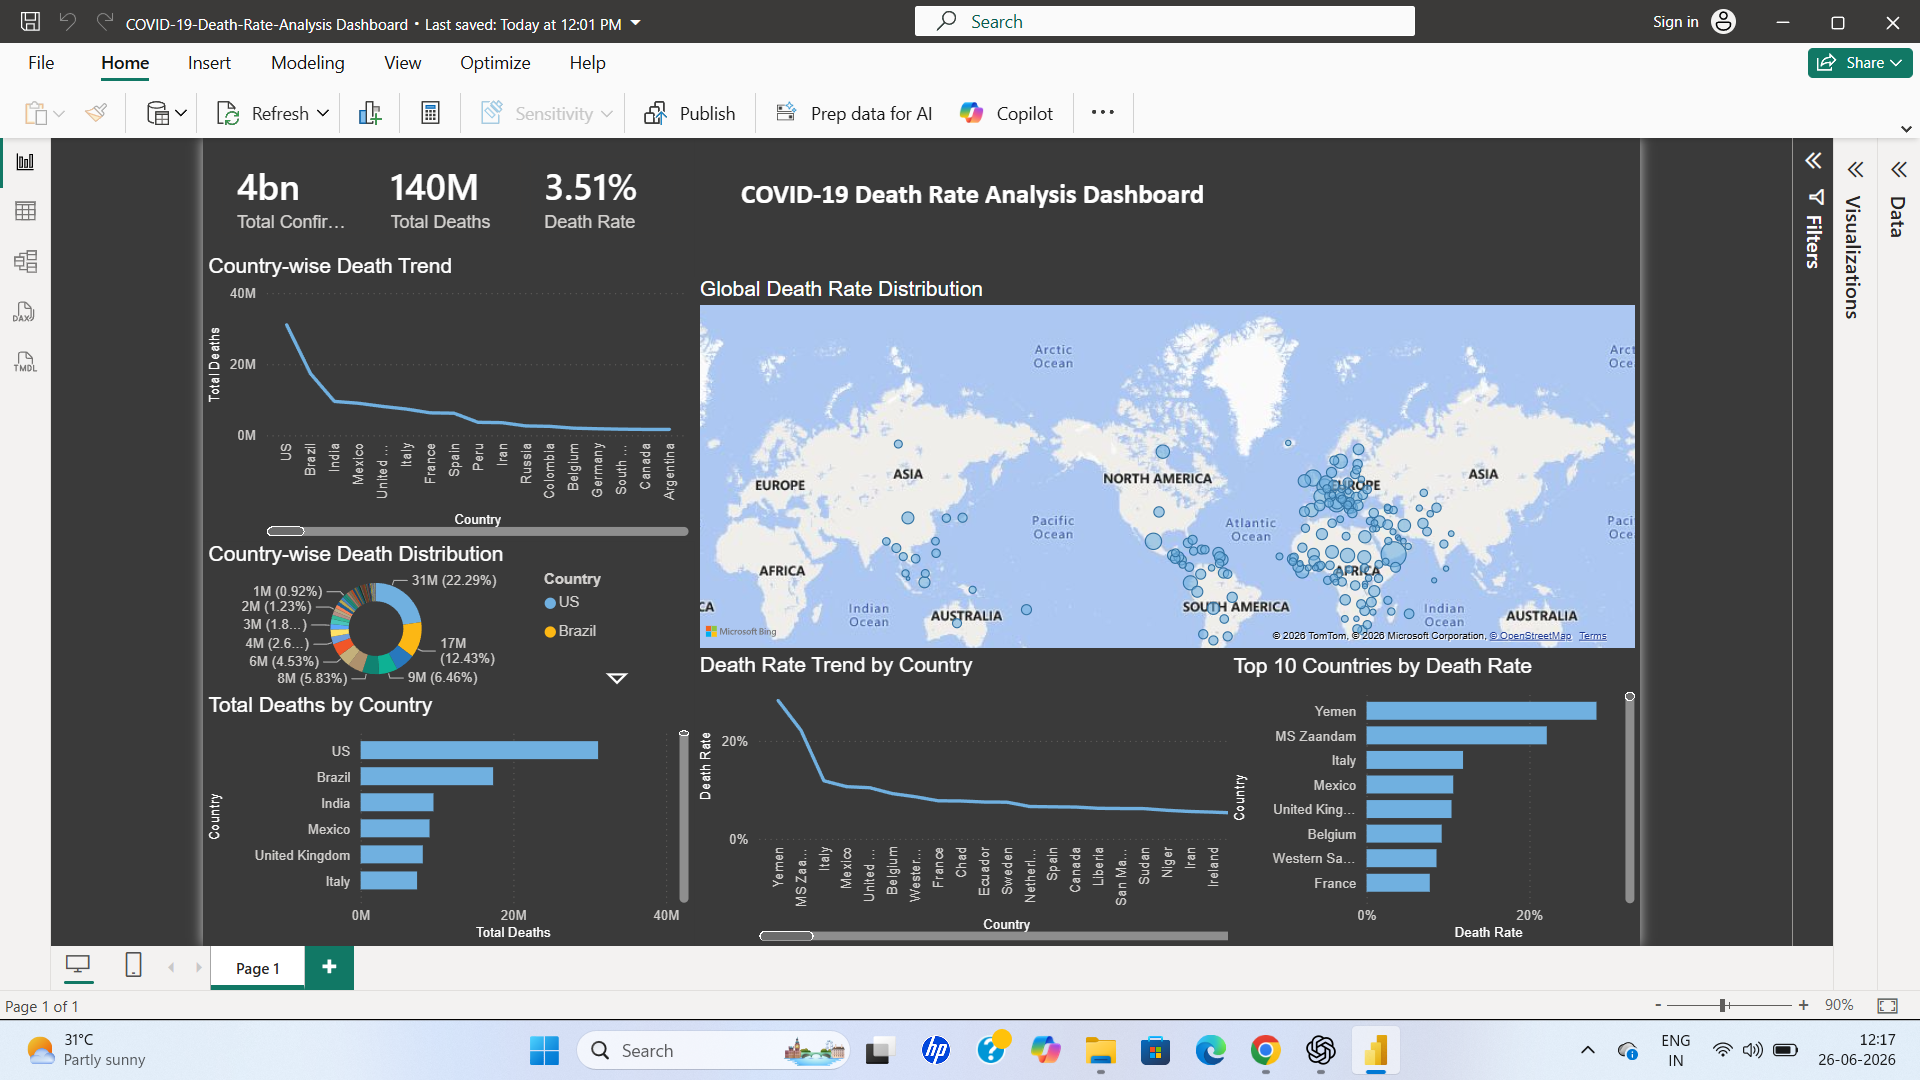

This screenshot's page, from the dashboard's own definition file:
{"tool":"powerbi","page":{"name":"Page 1","canvas":[1280,720],"ordinal":0},"visuals":[{"type":"cardVisual","fields":{"Data":["COVID_Data.Total Confirmed","COVID_Data.Total Deaths","COVID_Data.Death Rate"]},"box":[0,0,437.6,103.9],"z":0},{"type":"lineChart","title":"Country-wise Death Trend","fields":{"Category":["COVID_Data.Country"],"Y":["COVID_Data.Total Deaths"]},"box":[0,103.9,437.6,256],"z":1000},{"type":"lineChart","title":"Death Rate Trend by Country","fields":{"Category":["COVID_Data.Country"],"Y":["COVID_Data.Death Rate"]},"box":[437.6,458.6,503.7,261.3],"z":2000},{"type":"map","title":"Global Death Rate Distribution","fields":{"Category":["COVID_Data.Country"],"Size":["COVID_Data.Death Rate"]},"box":[437.6,123.8,842.6,335.8],"z":3000},{"type":"clusteredBarChart","title":"Top 10 Countries by Death Rate","fields":{"Category":["COVID_Data.Country"],"Y":["COVID_Data.Death Rate"]},"box":[913.1,459.9,367.1,259.6],"z":4000},{"type":"clusteredBarChart","fields":{"Y":["COVID_Data.Total Deaths"],"Category":["COVID_Data.Country"]},"box":[0,494.2,437.6,224.6],"z":5000},{"type":"textbox","box":[474.3,0,434.4,73.5],"z":6000},{"type":"donutChart","title":"Country-wise Death Distribution","fields":{"Y":["Sum(COVID_Data.total death)"],"Category":["COVID_Data.Country"]},"box":[0,359.9,437.6,134.3],"z":7000}]}

Visuals, with their boxes on the page's 1280x720 design canvas (x1, y1, x2, y2). These are canvas units, not pixel positions in the 1920x1080 screenshot, which may show the page scaled, cropped or inside an application window:
cardVisual - COVID_Data.Total Confirmed x COVID_Data.Total Deaths: (x1=0, y1=0, x2=438, y2=104)
"Country-wise Death Trend" lineChart: (x1=0, y1=104, x2=438, y2=360)
"Death Rate Trend by Country" lineChart: (x1=438, y1=459, x2=941, y2=720)
"Global Death Rate Distribution" map: (x1=438, y1=124, x2=1280, y2=460)
"Top 10 Countries by Death Rate" clusteredBarChart: (x1=913, y1=460, x2=1280, y2=720)
clusteredBarChart - COVID_Data.Total Deaths x COVID_Data.Country: (x1=0, y1=494, x2=438, y2=719)
textbox: (x1=474, y1=0, x2=909, y2=74)
"Country-wise Death Distribution" donutChart: (x1=0, y1=360, x2=438, y2=494)
